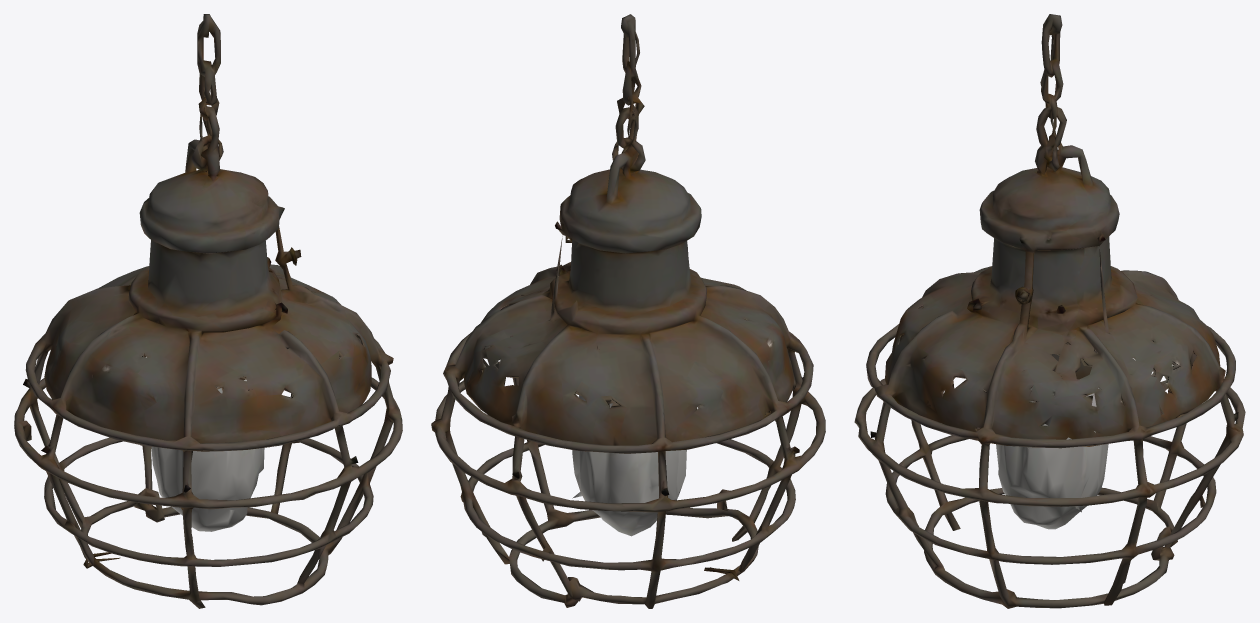
Rendered from lamp.glb.
3 views of the same model, side by side, from view 1: azimuth 30°, elevation 25°; view 2: azimuth 150°, elevation 25°; view 3: azimuth 270°, elevation 25° (orthographic).
Visible parts, largest first — view 1: tripo_node_493e4b0f-69ab-4556-84f4-bc551a71b54d; view 2: tripo_node_493e4b0f-69ab-4556-84f4-bc551a71b54d; view 3: tripo_node_493e4b0f-69ab-4556-84f4-bc551a71b54d.
Boxes of the visible parts, x1,y1,x2,y2 form: tripo_node_493e4b0f-69ab-4556-84f4-bc551a71b54d: [14, 14, 402, 608]; tripo_node_493e4b0f-69ab-4556-84f4-bc551a71b54d: [431, 14, 825, 608]; tripo_node_493e4b0f-69ab-4556-84f4-bc551a71b54d: [854, 14, 1245, 608].
Size of the model in its own units: 0.6491 by 1 by 0.6493.
1 material, 1 textured.
